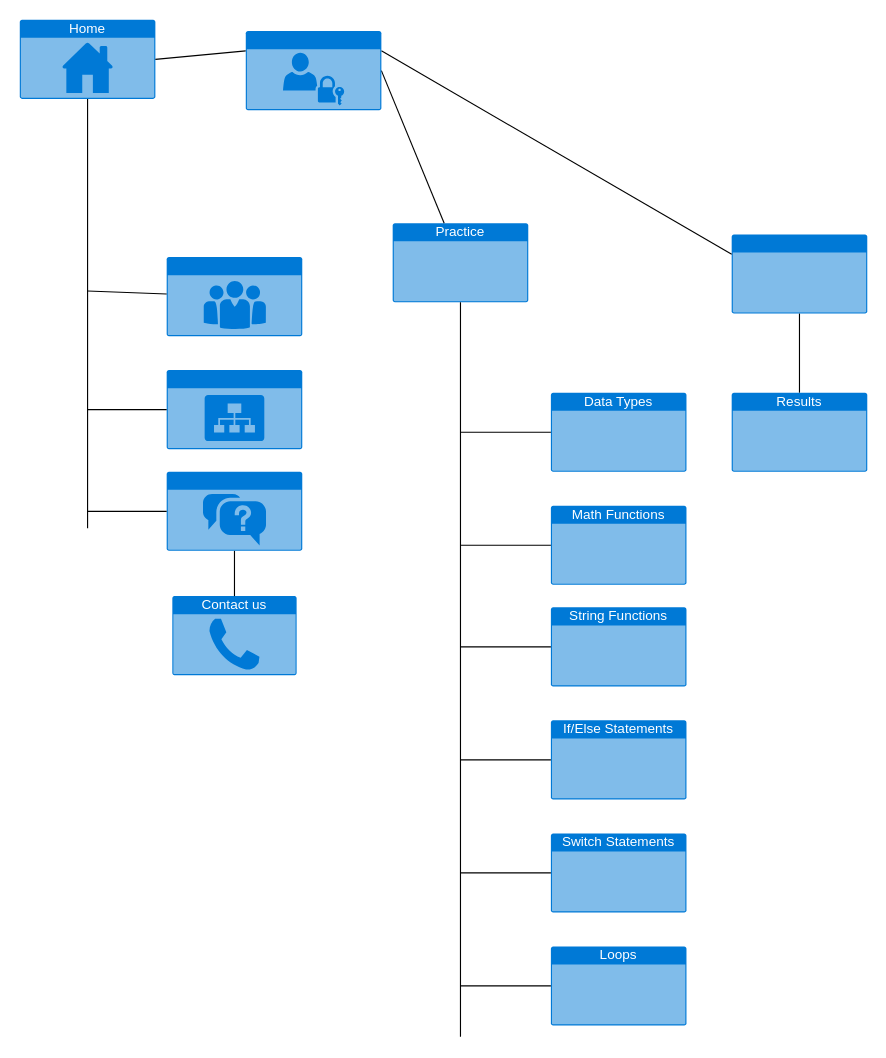
The diagram is 886 pixels wide and 1058 high, and some of its shapes have lost their labels. The shapes that lost their labels are listed below. From the top down, each one's centre as x and y in pixels, then its label:
At [313,70]: "Login".
At [799,273]: "Test".
At [234,296]: "About us".
At [234,409]: "Sitemap".
At [234,510]: "FAQ".
